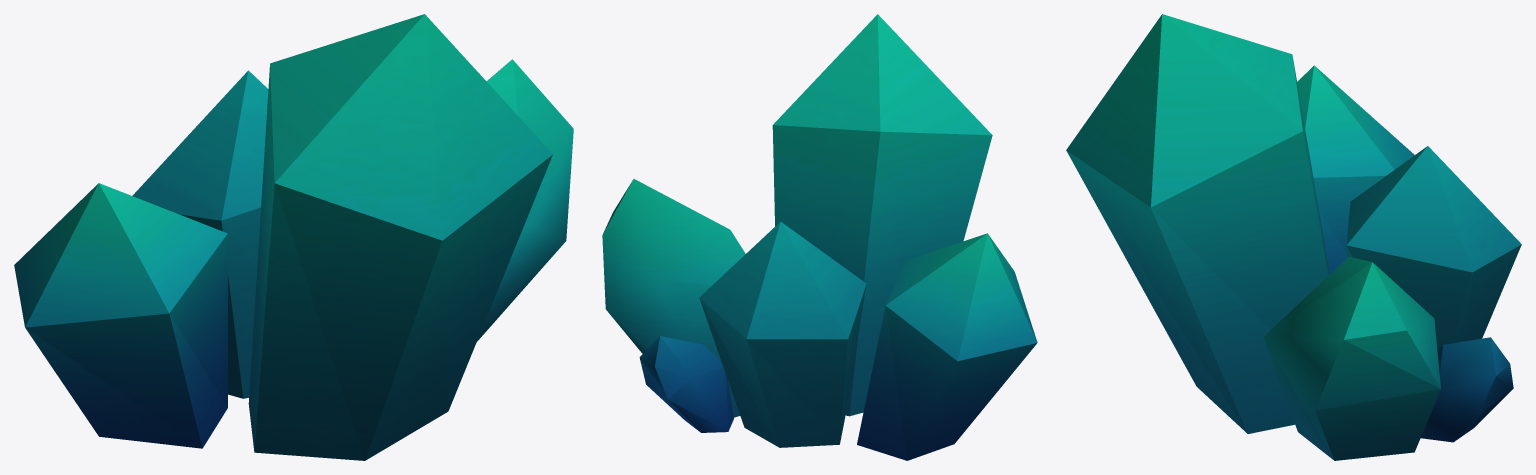
The model's file is ZLP_Crystalk_A_13.FBX.
3 views of the same model, side by side, from view 1: azimuth 30°, elevation 25°; view 2: azimuth 150°, elevation 25°; view 3: azimuth 270°, elevation 25° (orthographic). The views are drawn at different scales.
Parts seen in each view (by area): view 1: ZLP_Crystalk_A_13; view 2: ZLP_Crystalk_A_13; view 3: ZLP_Crystalk_A_13.
Boxes of the visible parts, x1,y1,x2,y2 form: ZLP_Crystalk_A_13: (14, 14, 573, 460); ZLP_Crystalk_A_13: (602, 14, 1037, 460); ZLP_Crystalk_A_13: (1066, 14, 1521, 460).
Bounding box in the file's own units: 135 × 104 × 110.
